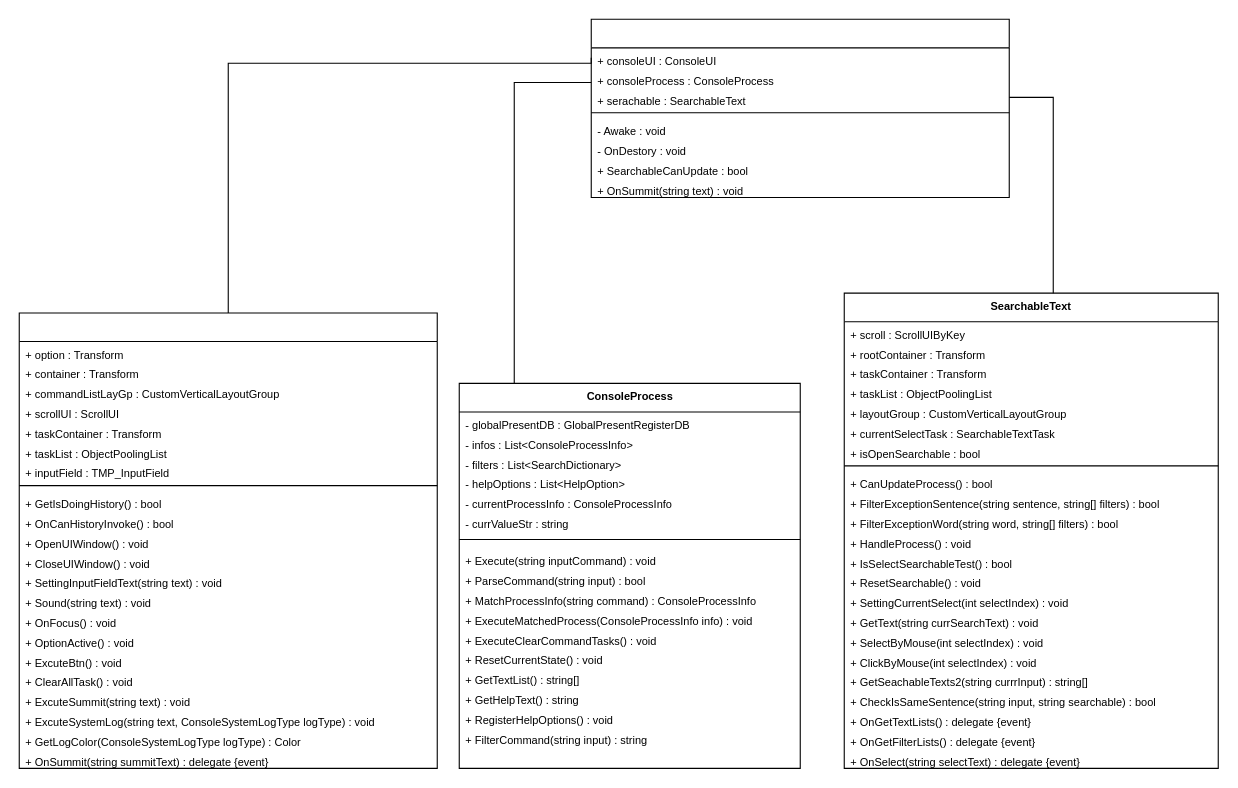
This 1238x788 diagram has some shape labels left out. The box of each missing label's shape, as (x1, y1, x2, y2) in pixels:
ConsolePresenter: (590, 18, 1009, 197)
ConsoleUI: (18, 312, 437, 768)
